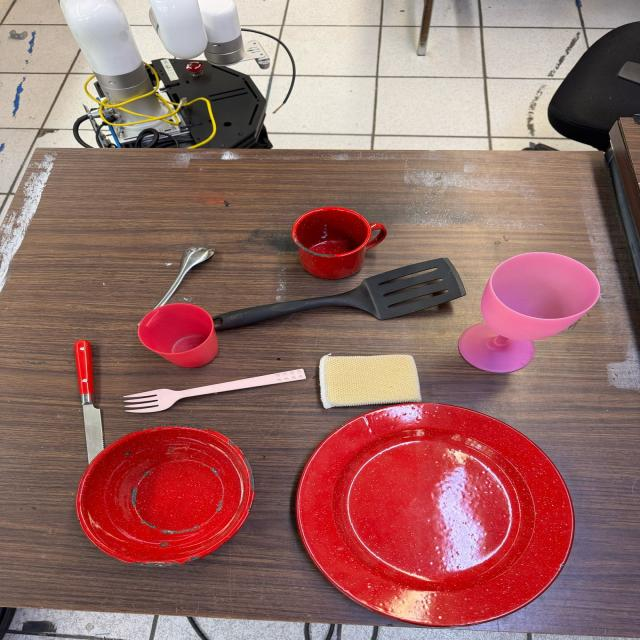cup: (292, 206, 387, 278)
fork: (126, 368, 304, 413)
glass: (137, 303, 224, 370)
knife: (73, 340, 108, 465)
plate: (291, 401, 576, 630)
spatula: (210, 258, 469, 334)
sponge: (318, 355, 422, 408)
spoon: (138, 242, 218, 337)
tazon: (74, 425, 256, 568)
wineglass: (461, 252, 598, 368)
